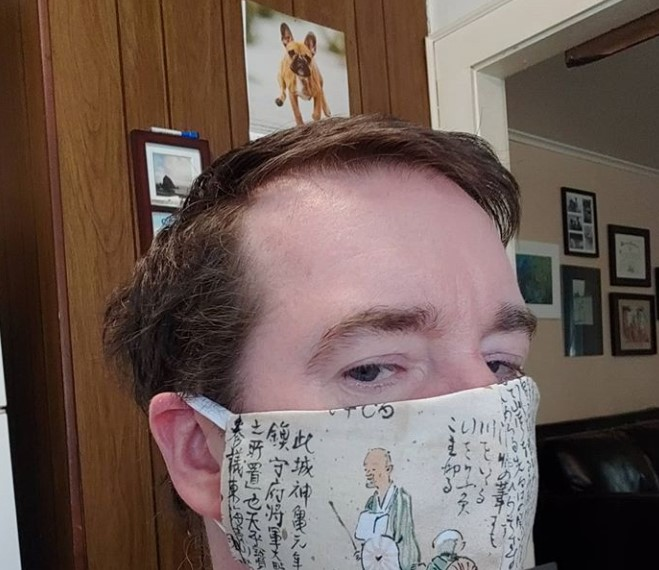face_with_mask: (142, 130, 543, 569)
